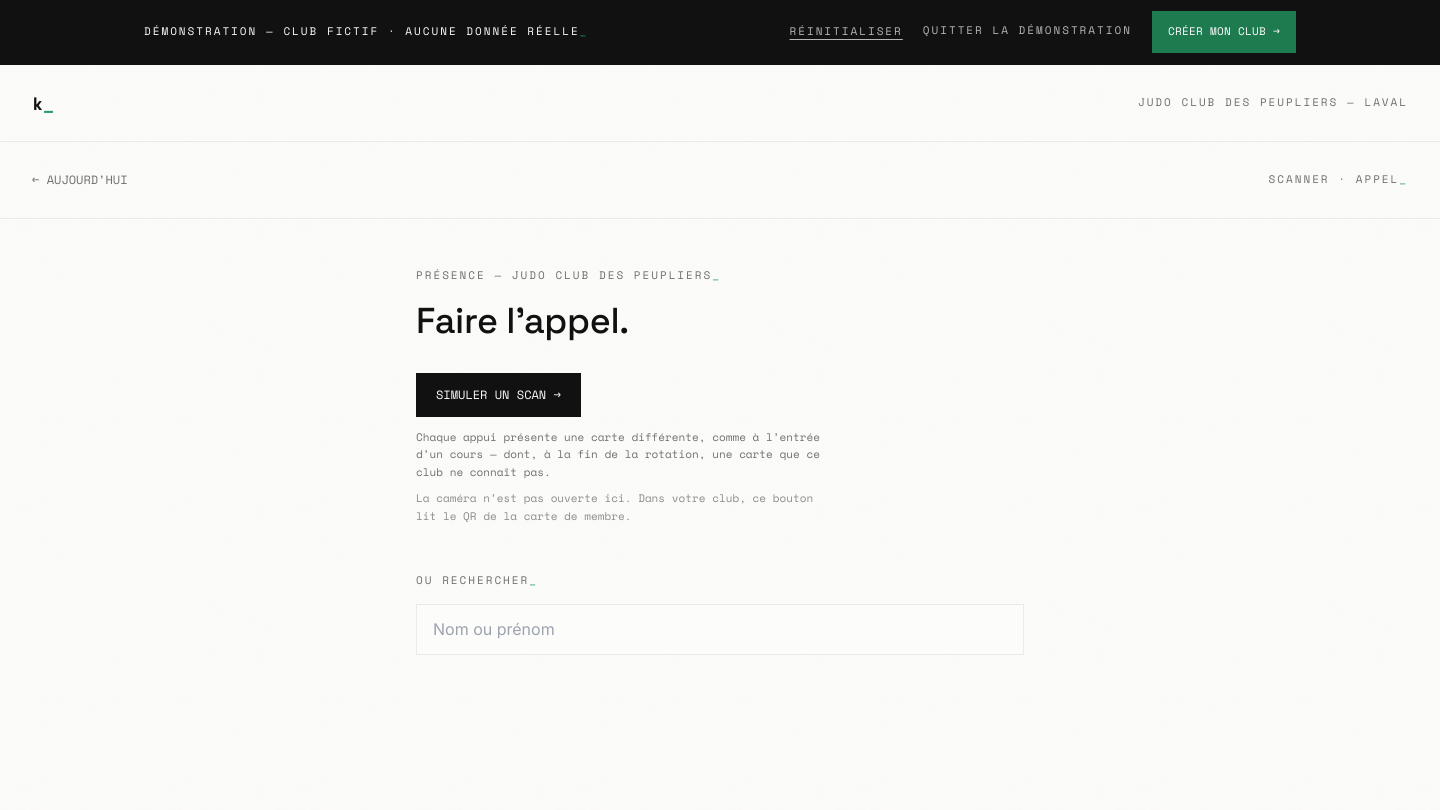
Test: l’écran de contrôle › finit par la carte d’un autre club, avec le seul message d’erreur du produit
This screenshot has width=1440, height=810.
Click the button "SIMULER UN SCAN →".
click(498, 395)  # box [416,373,581,417]
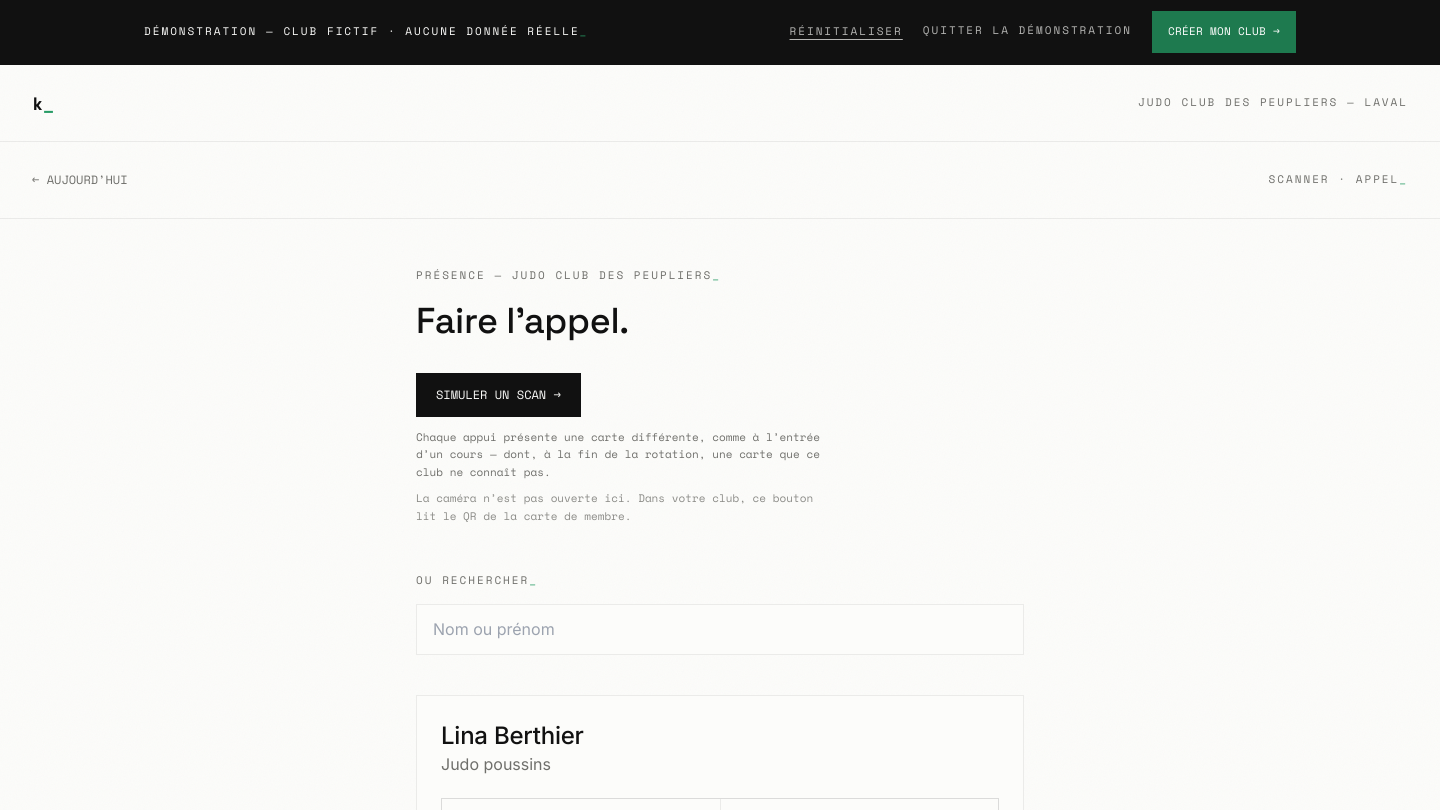
Click the button "SIMULER UN SCAN →".
click(498, 395)  # box [416,373,581,417]
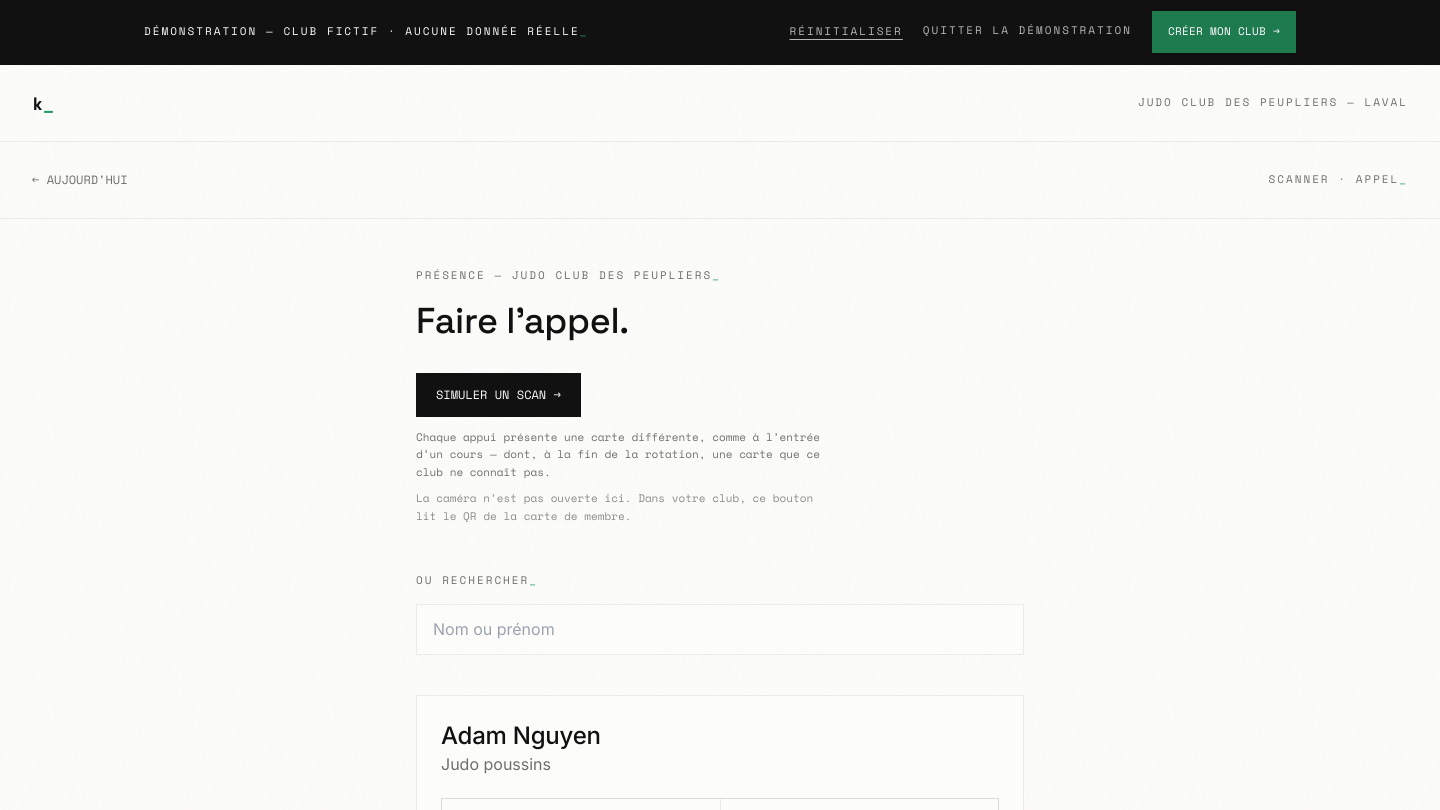
Click the button "SIMULER UN SCAN →".
click(498, 395)  # box [416,373,581,417]
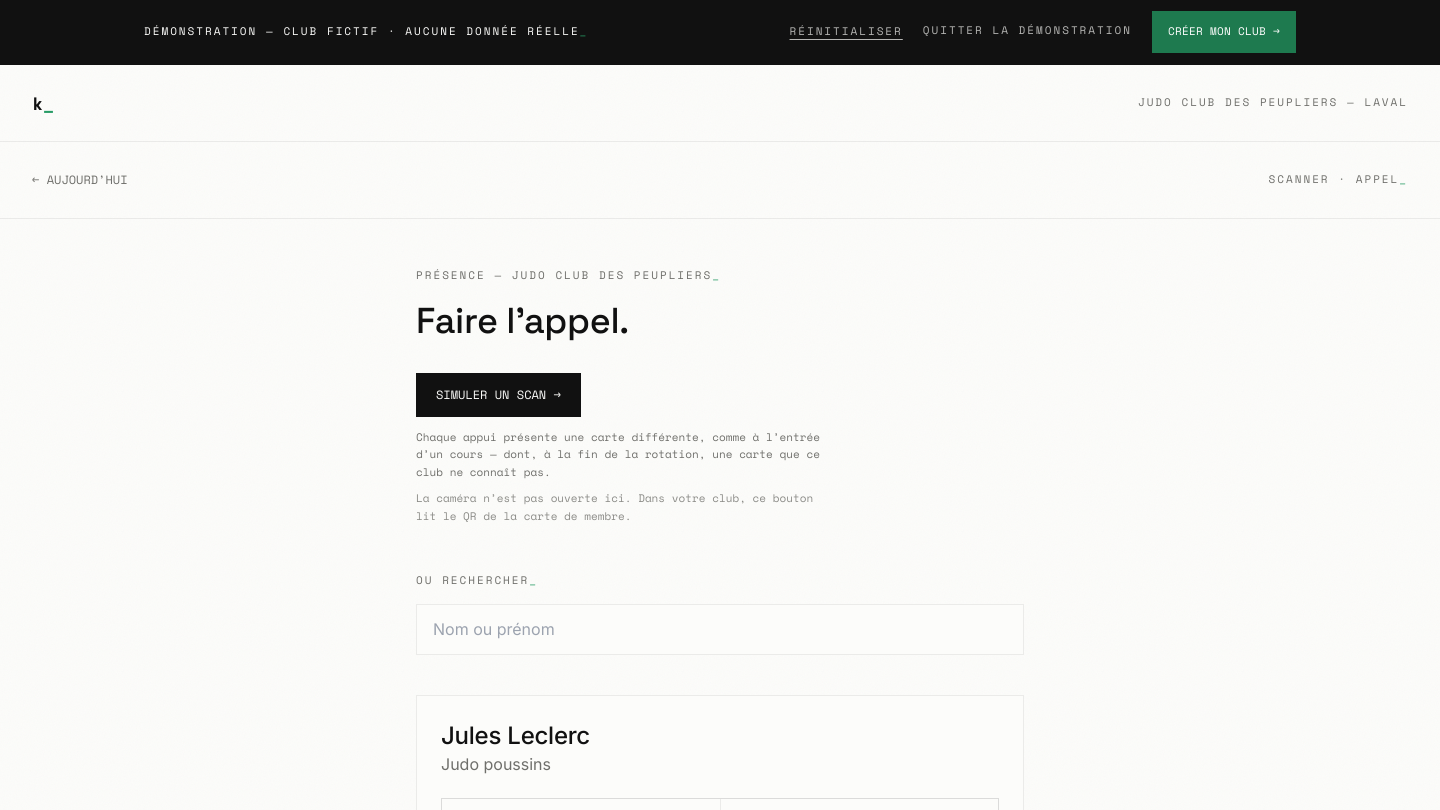
Click the button "SIMULER UN SCAN →".
click(498, 395)  # box [416,373,581,417]
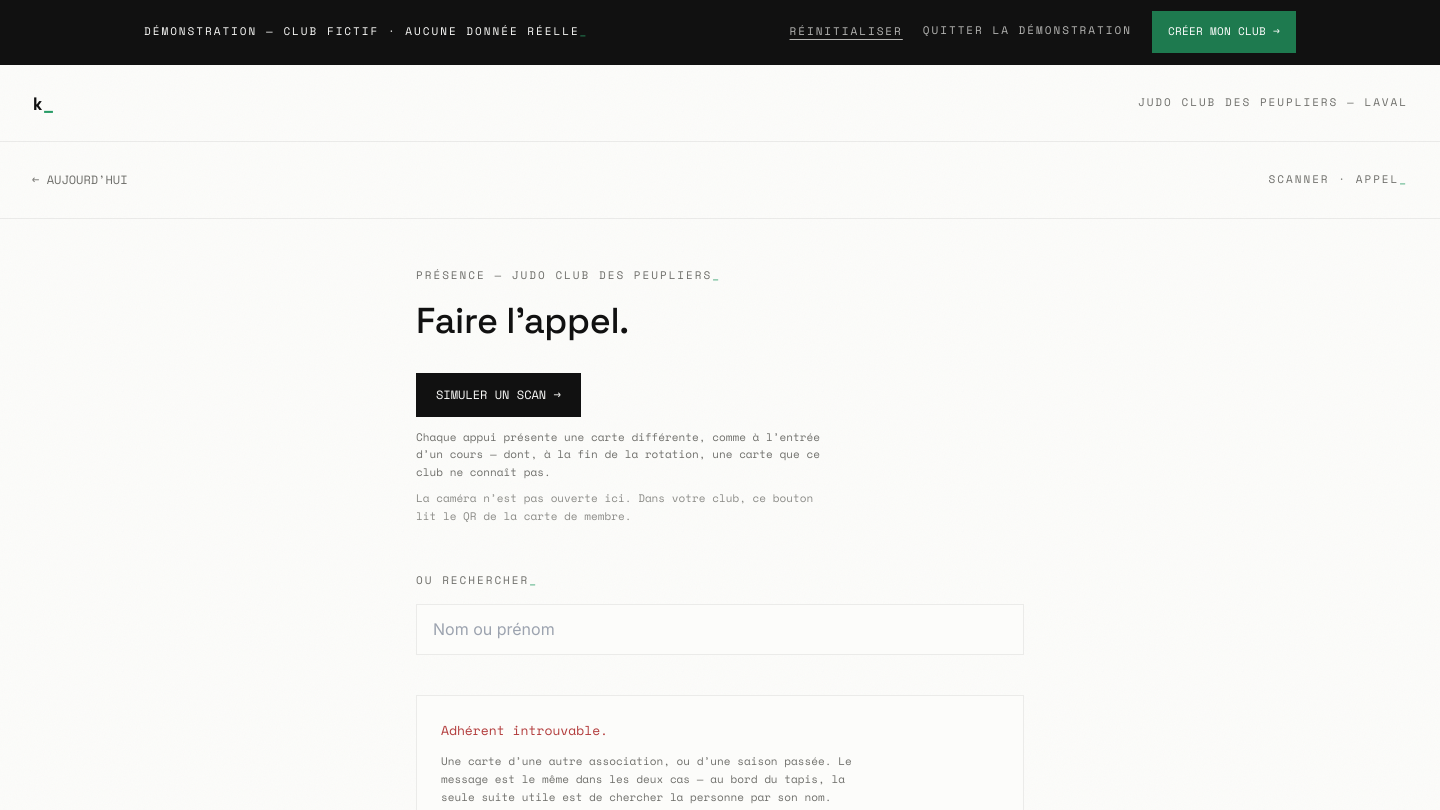
Expected: the text "Adhérent introuvable." is shown, [441,720,608,740]
